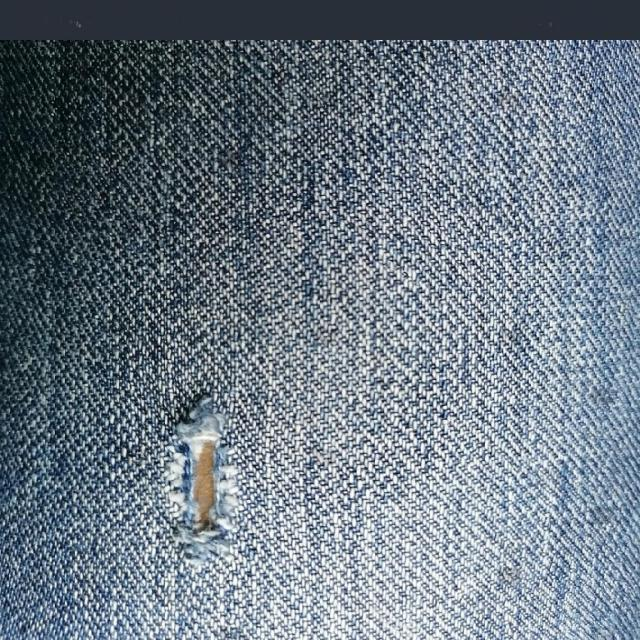Hole: (165, 397, 237, 567)
